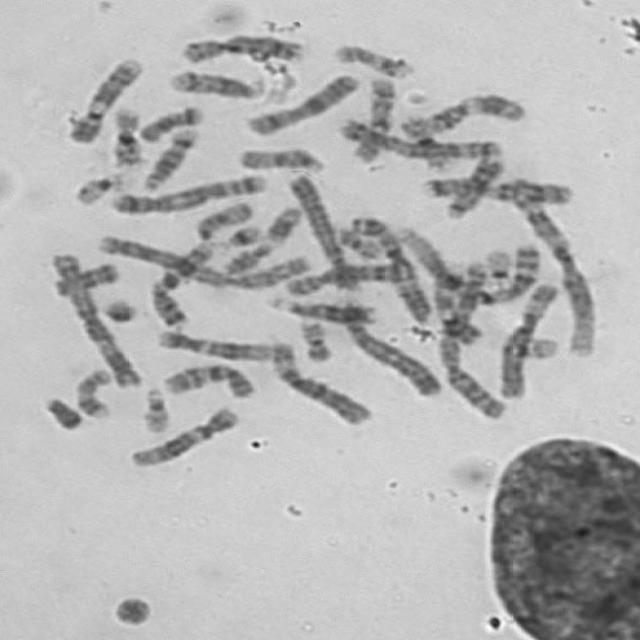A1: (501, 171, 602, 359), (385, 218, 547, 306)
A2: (89, 227, 314, 291), (426, 255, 511, 421)
A3: (42, 244, 144, 390), (342, 208, 436, 325)
B4: (330, 292, 444, 397), (280, 167, 364, 295)
B5: (330, 111, 507, 162), (102, 167, 269, 216)
C10: (345, 70, 400, 163), (152, 356, 258, 399)
C11: (216, 200, 306, 277), (413, 86, 528, 134)
C12: (121, 401, 242, 468), (149, 322, 279, 363)
C6: (261, 335, 375, 427), (490, 276, 564, 400)
C7: (141, 233, 220, 329), (412, 170, 576, 206)
C8: (276, 255, 408, 297), (170, 27, 308, 65)
C9: (59, 50, 145, 145), (425, 257, 490, 346)
D13: (437, 149, 508, 220), (260, 288, 377, 326)
D14: (134, 121, 200, 192), (159, 62, 266, 101)
D15: (186, 193, 257, 242), (230, 140, 329, 174)
E16: (392, 108, 452, 172), (102, 98, 148, 168)
E17: (326, 35, 416, 80), (66, 362, 115, 420)
E18: (44, 254, 121, 298), (132, 99, 205, 144)
F19: (65, 166, 128, 207), (476, 242, 517, 290)
F20: (327, 219, 385, 261), (291, 312, 335, 363)
G21: (93, 291, 141, 324), (219, 217, 265, 249)
G22: (133, 381, 173, 434), (514, 328, 562, 361)
X: (237, 66, 362, 137)
Y: (35, 389, 85, 432)
